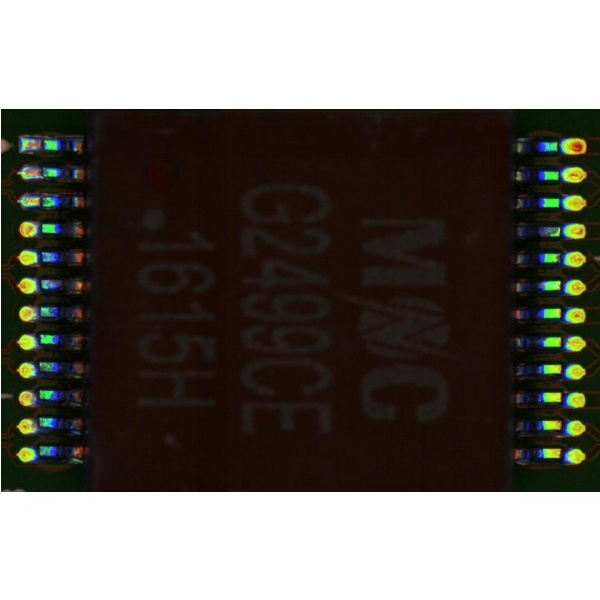Bad_podu: (28, 139, 48, 149), (29, 196, 47, 204), (29, 168, 47, 176)
